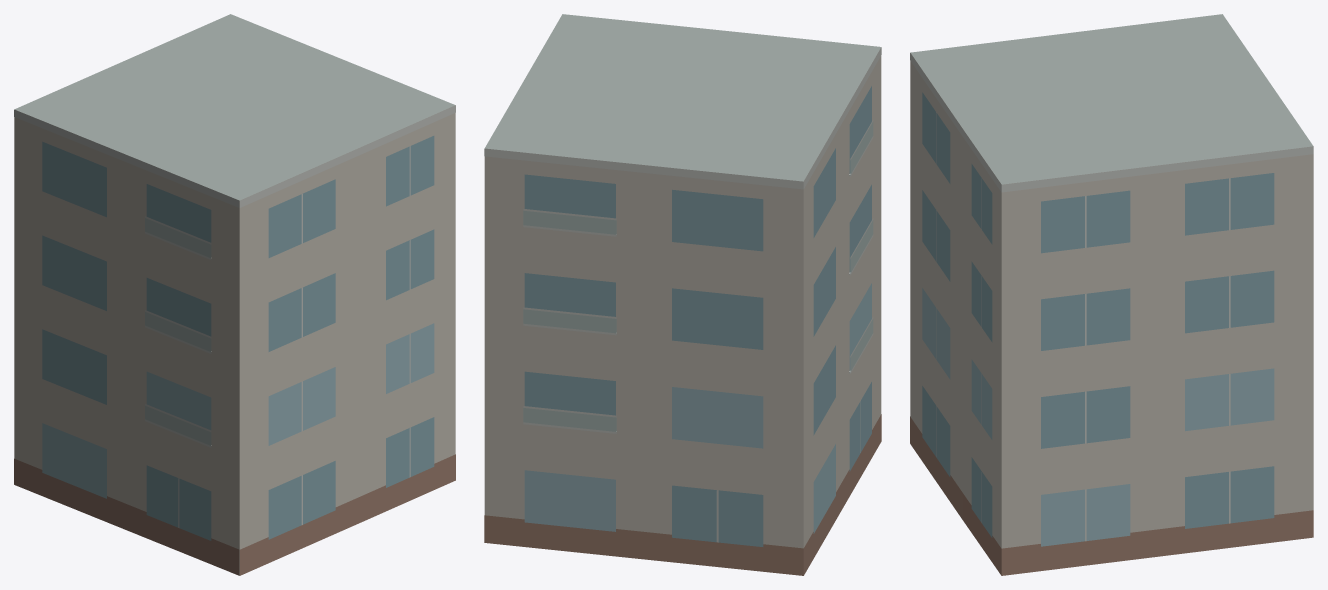
The model's file is residential-bbf1960a-d283-44c9-9bbe-54ef7fe25e1d.glb.
3 renders of one model, left to right at view 1: azimuth 30°, elevation 25°; view 2: azimuth 150°, elevation 25°; view 3: azimuth 270°, elevation 25°, orthographic. The views are drawn at different scales.
Visible parts, largest first — view 1: residential-bbf1960a-d283-44c9-9bbe-54ef7fe25e1d.tmp; view 2: residential-bbf1960a-d283-44c9-9bbe-54ef7fe25e1d.tmp; view 3: residential-bbf1960a-d283-44c9-9bbe-54ef7fe25e1d.tmp.
Boxes of the visible parts, x1,y1,x2,y2 form: residential-bbf1960a-d283-44c9-9bbe-54ef7fe25e1d.tmp: (14, 14, 455, 575); residential-bbf1960a-d283-44c9-9bbe-54ef7fe25e1d.tmp: (484, 14, 881, 575); residential-bbf1960a-d283-44c9-9bbe-54ef7fe25e1d.tmp: (910, 14, 1313, 575).
Bounding box in the file's own units: 11.42 × 12.2 × 11.41.
